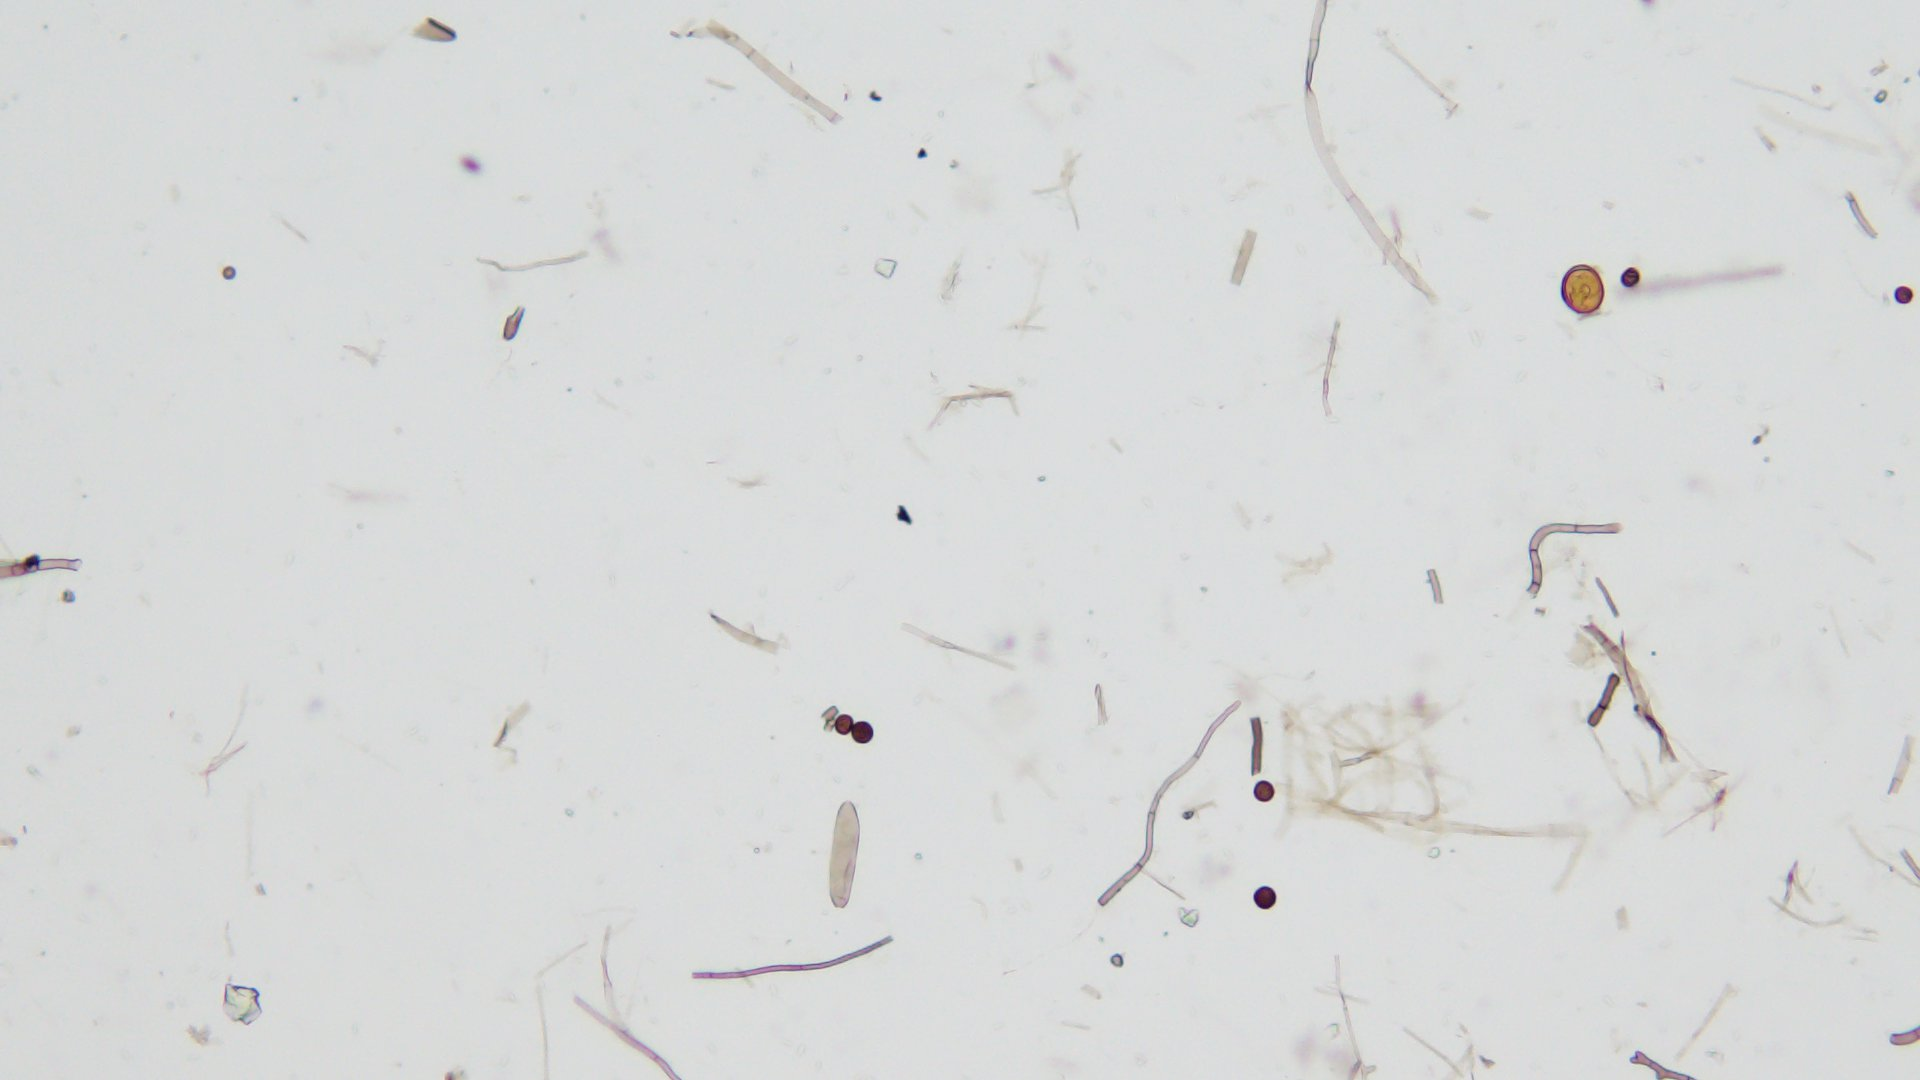dbb_spore: (829, 802, 860, 910)
shs_spore: (1253, 886, 1279, 909), (1251, 779, 1275, 802), (851, 723, 876, 741), (1894, 284, 1913, 305), (1621, 268, 1640, 287), (832, 716, 853, 735)
xb_spore: (1557, 266, 1604, 315)
